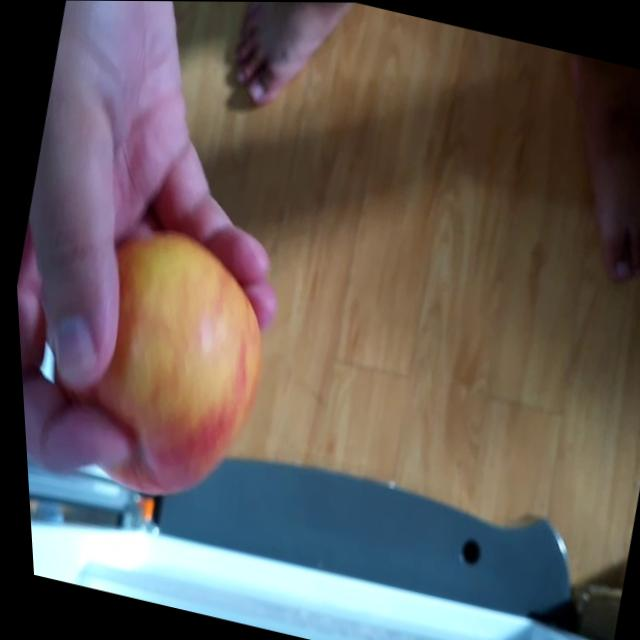apple: (42, 217, 286, 516)
